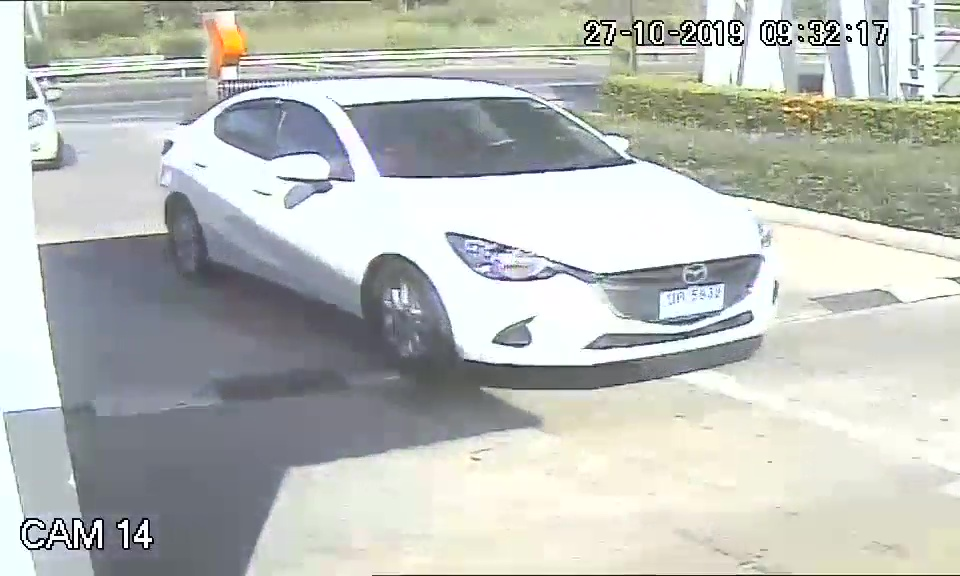sedan: (143, 73, 783, 378)
